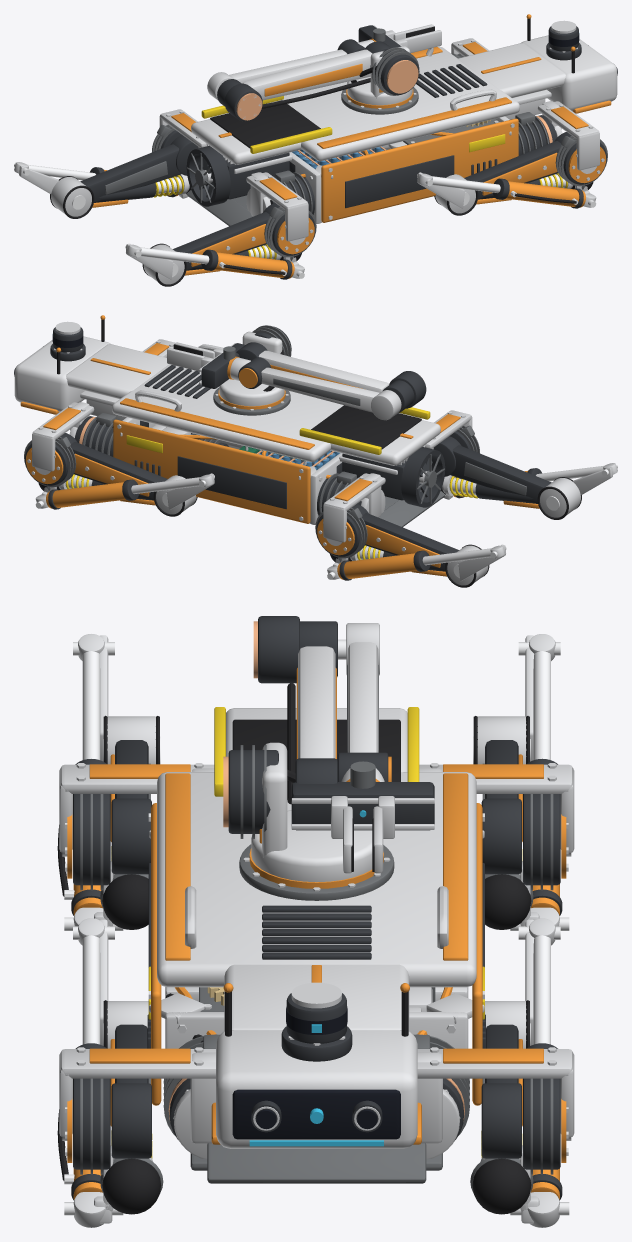
The model's file is argo_q4.glb.
3 views of the same model, one above another, from view 1: azimuth 30°, elevation 25°; view 2: azimuth 150°, elevation 25°; view 3: azimuth 270°, elevation 25° (orthographic). The views are drawn at different scales.
Parts seen in each view (by area): view 1: Top_Cover, Side_Panel_R, Arm_Upper, Sensor_Head, Thigh_RL, Cooling_Duct, Hip_Yoke_RR, Thigh_RR, Thigh_FR, Hip_Yoke_FR, Chassis_Frame, Shin_RL (+29 smaller); view 2: Top_Cover, Side_Panel_L, Sensor_Head, Thigh_RR, Cooling_Duct, Arm_Forearm, Arm_Upper, Hip_Yoke_RL, Thigh_RL, Thigh_FL, Chassis_Frame, Arm_Turret (+28 smaller); view 3: Top_Cover, Sensor_Head, Skid_Plate, Hip_Yoke_FL, Arm_Turret, Hip_Yoke_FR, Arm_Upper, Gripper_Palm, Chassis_Frame, Thigh_FR, Thigh_FL, Thigh_RR (+41 smaller).
Boxes of the visible parts, x1,y1,x2,y2 form: Top_Cover: [191, 43, 565, 164]; Side_Panel_R: [321, 118, 518, 222]; Arm_Upper: [217, 41, 391, 108]; Sensor_Head: [521, 14, 617, 113]; Thigh_RL: [80, 135, 198, 202]; Cooling_Duct: [186, 145, 289, 206]; Hip_Yoke_RR: [246, 172, 308, 241]; Thigh_RR: [173, 203, 304, 278]; Thigh_FR: [464, 132, 596, 207]; Hip_Yoke_FR: [537, 101, 599, 170]; Chassis_Frame: [234, 89, 551, 223]; Shin_RL: [14, 162, 187, 207]; Top_Cover: [66, 344, 440, 465]; Side_Panel_L: [113, 419, 310, 523]; Sensor_Head: [14, 315, 110, 414]; Thigh_RR: [433, 436, 551, 503]; Cooling_Duct: [342, 446, 445, 507]; Arm_Forearm: [261, 367, 401, 420]; Arm_Upper: [236, 342, 414, 412]; Hip_Yoke_RL: [323, 473, 385, 542]; Thigh_RL: [327, 504, 458, 579]; Thigh_FL: [35, 433, 167, 508]; Chassis_Frame: [80, 390, 397, 524]; Arm_Turret: [218, 331, 285, 409]; Top_Cover: [157, 707, 476, 1031]; Sensor_Head: [211, 983, 421, 1148]; Skid_Plate: [190, 1143, 442, 1183]; Hip_Yoke_FL: [417, 1047, 574, 1158]; Arm_Turret: [249, 742, 383, 888]; Hip_Yoke_FR: [59, 1047, 215, 1158]; Arm_Upper: [287, 621, 337, 804]; Gripper_Palm: [291, 761, 434, 830]; Chassis_Frame: [149, 830, 484, 1048]; Thigh_FR: [64, 1024, 151, 1223]; Thigh_FL: [481, 1024, 569, 1223]; Thigh_RR: [64, 740, 151, 930].
Size of what is drawn, in the model's own units: 1.46 by 0.4285 by 0.614.
